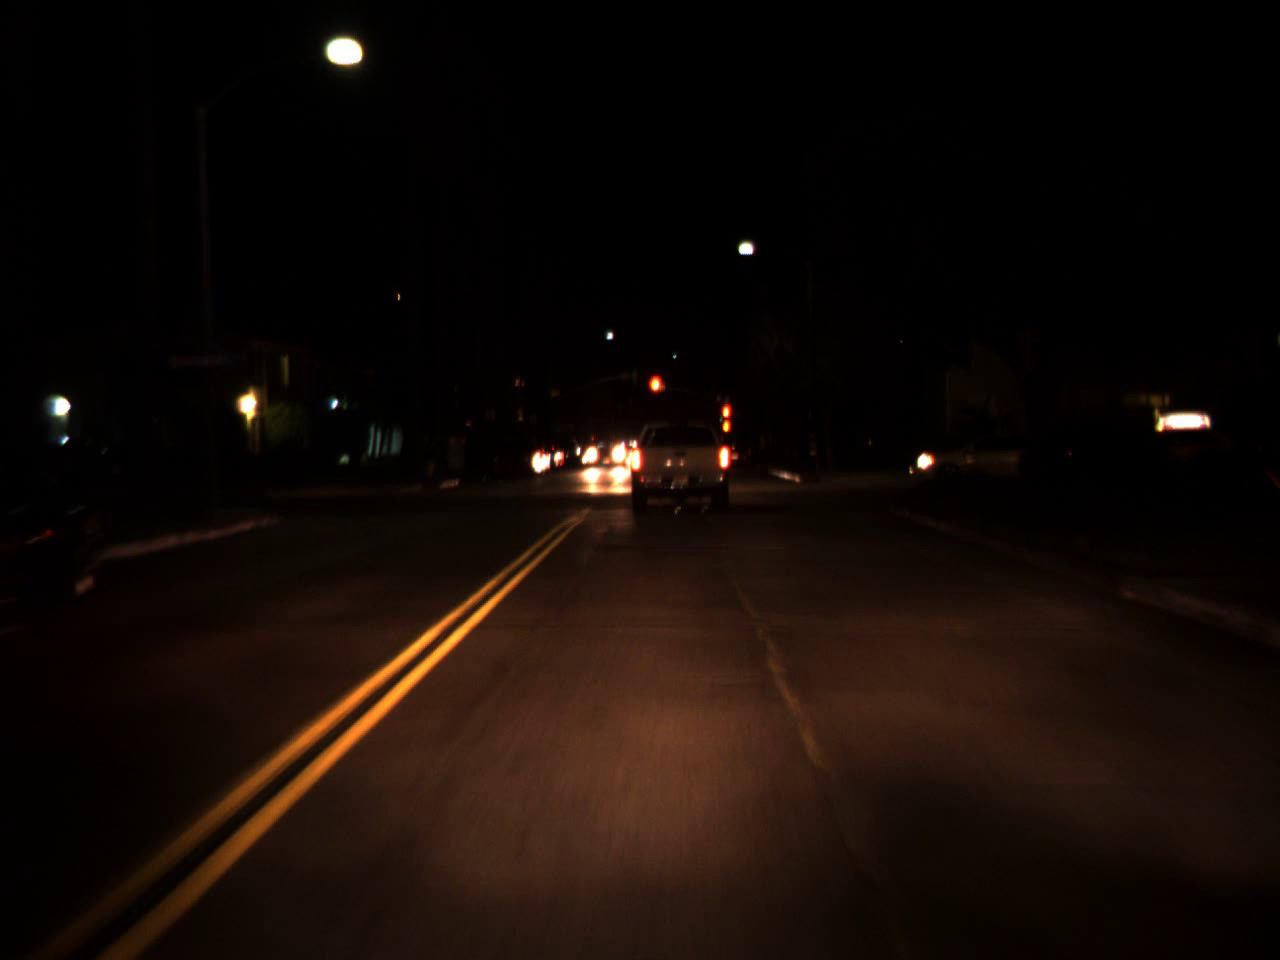stop: (647, 372, 665, 415), (721, 403, 731, 435)
